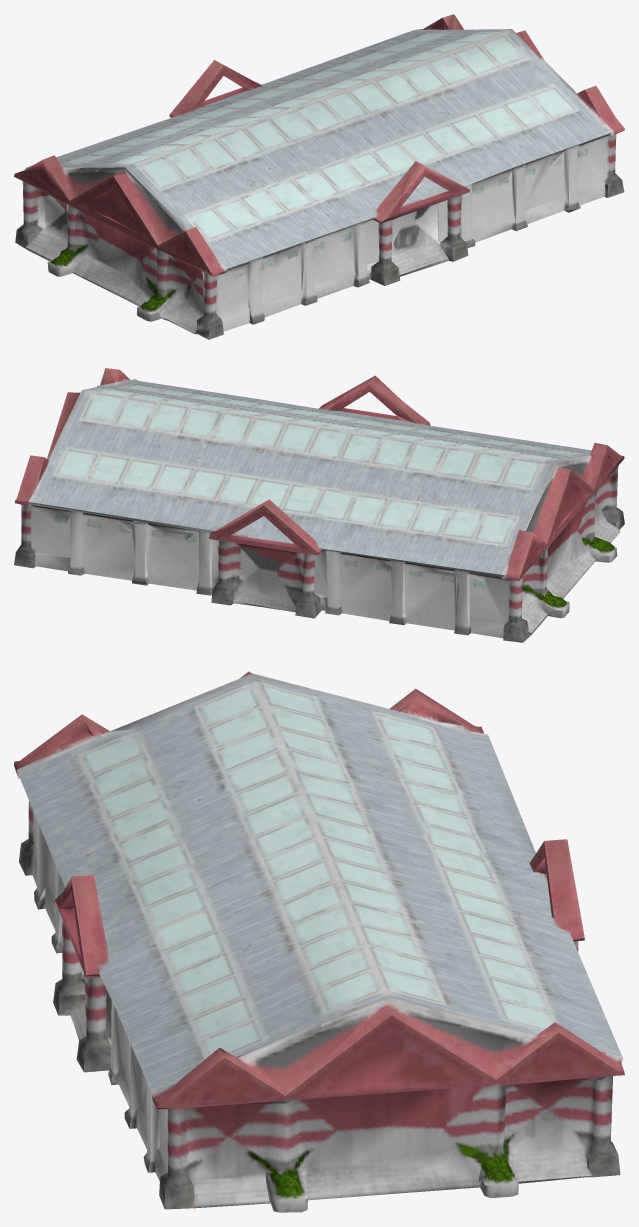
File: clod_town_t05_clod_far001.gltf
3 views of the same model, one above another, from view 1: azimuth 30°, elevation 25°; view 2: azimuth 150°, elevation 25°; view 3: azimuth 270°, elevation 25° (orthographic). The views are drawn at different scales.
Parts seen in each view (by area): view 1: clod_town_t05_clod_far001_000_meshShape:remesh_mat; view 2: clod_town_t05_clod_far001_000_meshShape:remesh_mat; view 3: clod_town_t05_clod_far001_000_meshShape:remesh_mat.
Part boxes in pixels (<box>): clod_town_t05_clod_far001_000_meshShape:remesh_mat: <box>14,14,624,339</box>; clod_town_t05_clod_far001_000_meshShape:remesh_mat: <box>14,368,624,642</box>; clod_town_t05_clod_far001_000_meshShape:remesh_mat: <box>14,671,624,1212</box>.
Size of the model in its own units: 67.31 by 14.91 by 44.75.
1 material, 1 textured.
